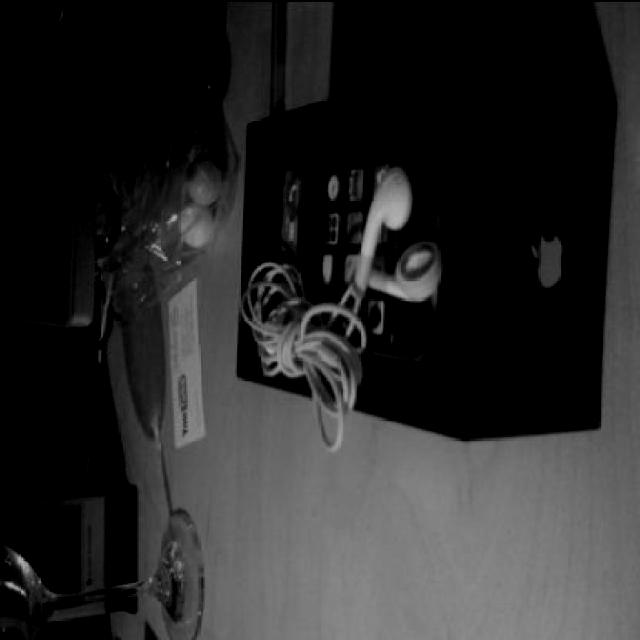fake: (149, 73, 549, 510)
